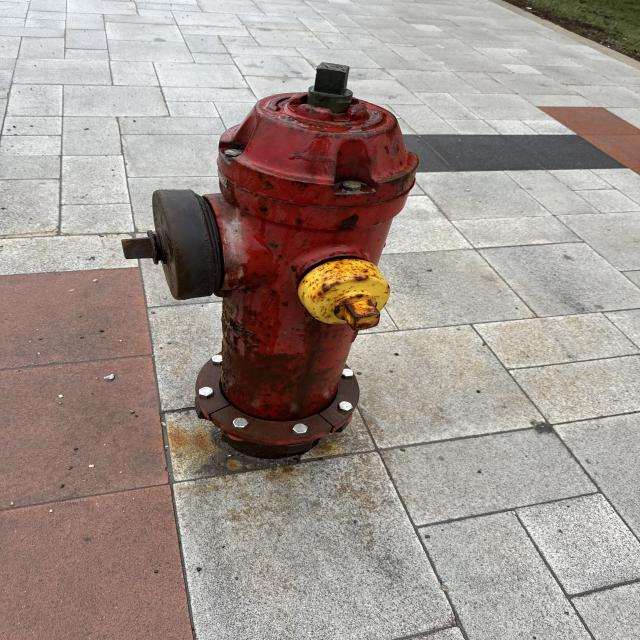Fire hydrant: (119, 62, 420, 460)
